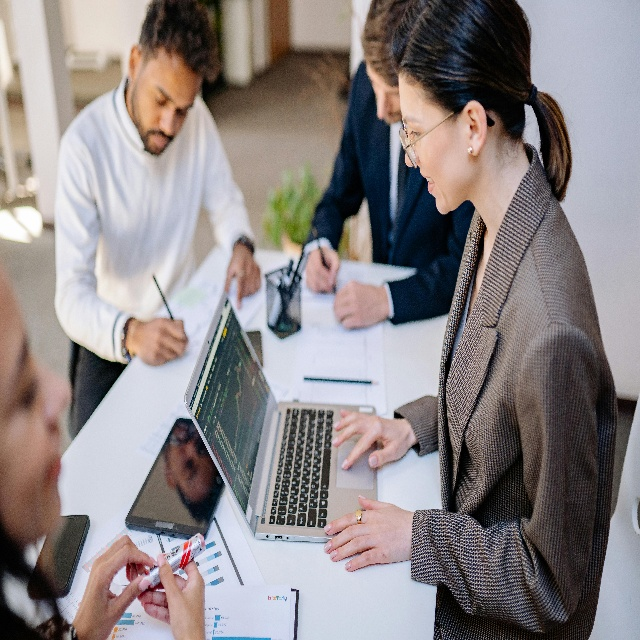Gafas: (398, 105, 497, 172)
Sin_guantes: (74, 531, 156, 640), (321, 490, 417, 574), (139, 551, 206, 640), (329, 406, 413, 473), (133, 318, 190, 367), (333, 279, 389, 328), (224, 242, 262, 310), (304, 244, 341, 293)
